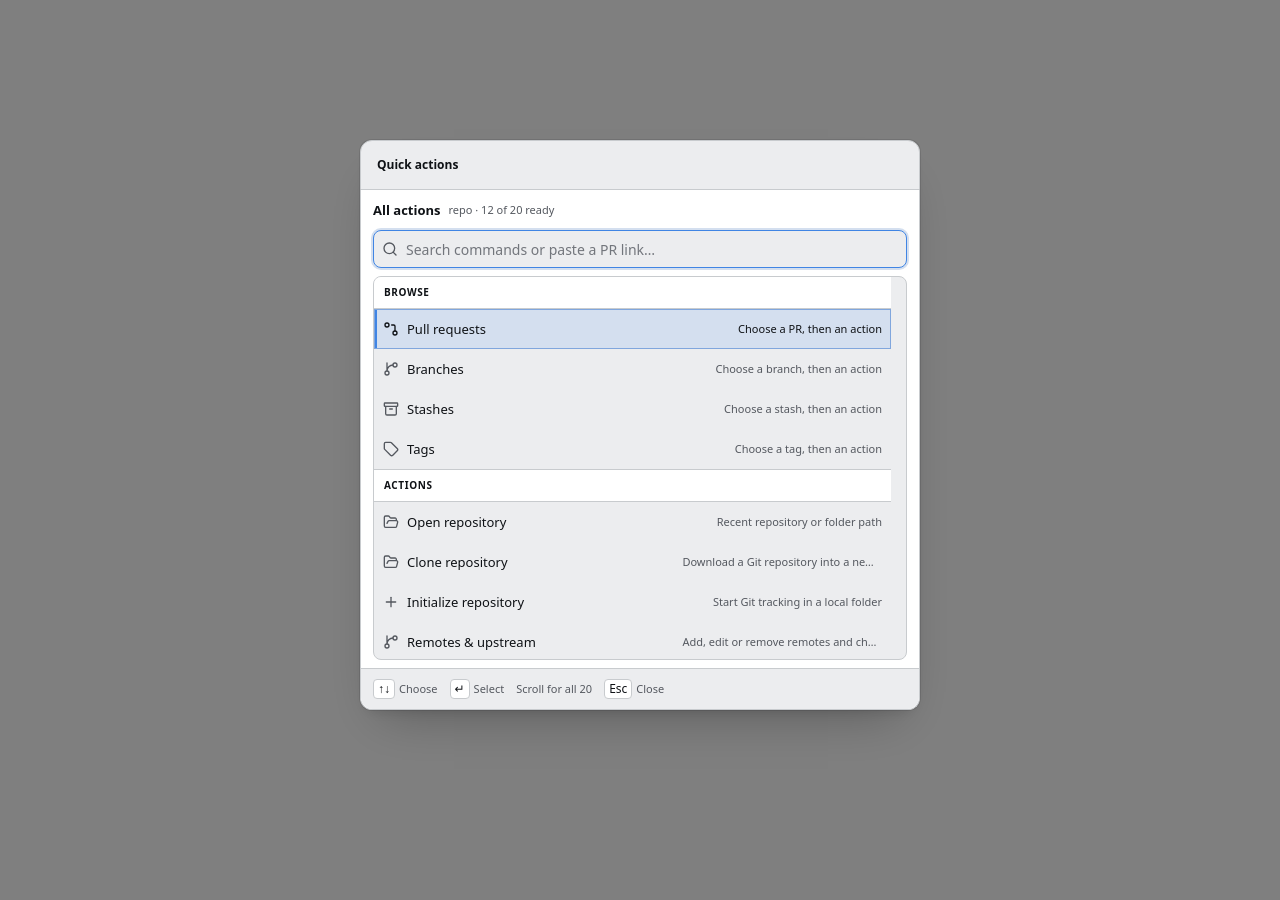
Test: AppCommandPalette › keeps bulk actions unavailable when their scope is empty
The image size is (1280, 900).
In the field named "Search actions": (652, 249) [406,231,898,267], type "stage"
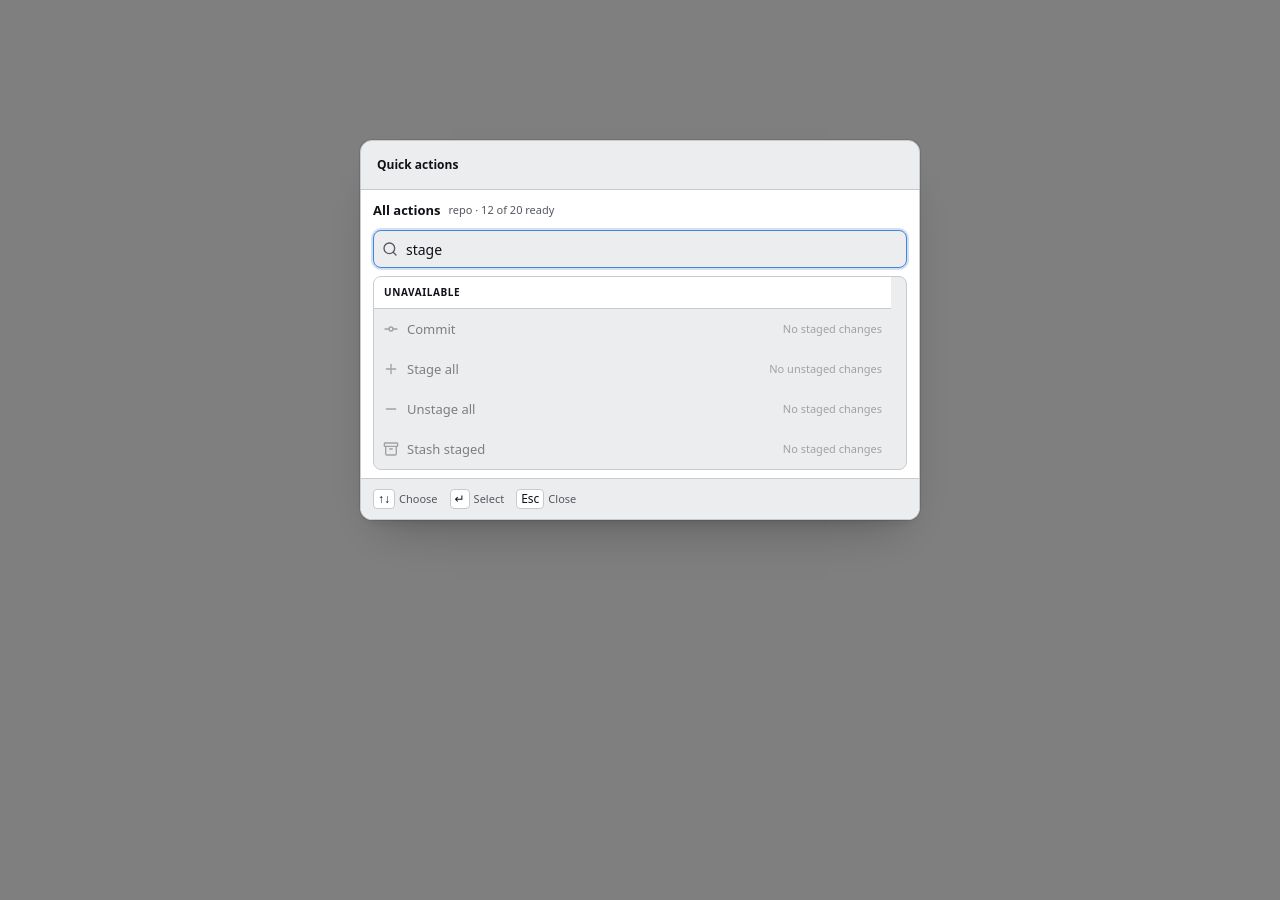
Result: the button "Stage all No unstaged changes" is disabled at [374,349,891,389]
Result: the button "Unstage all No staged changes" is disabled at [374,389,891,429]
Result: the button "Stash staged No staged changes" is disabled at [374,429,891,469]
